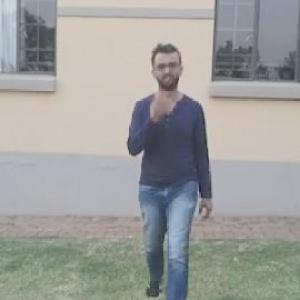follow: (124, 46, 199, 288)
